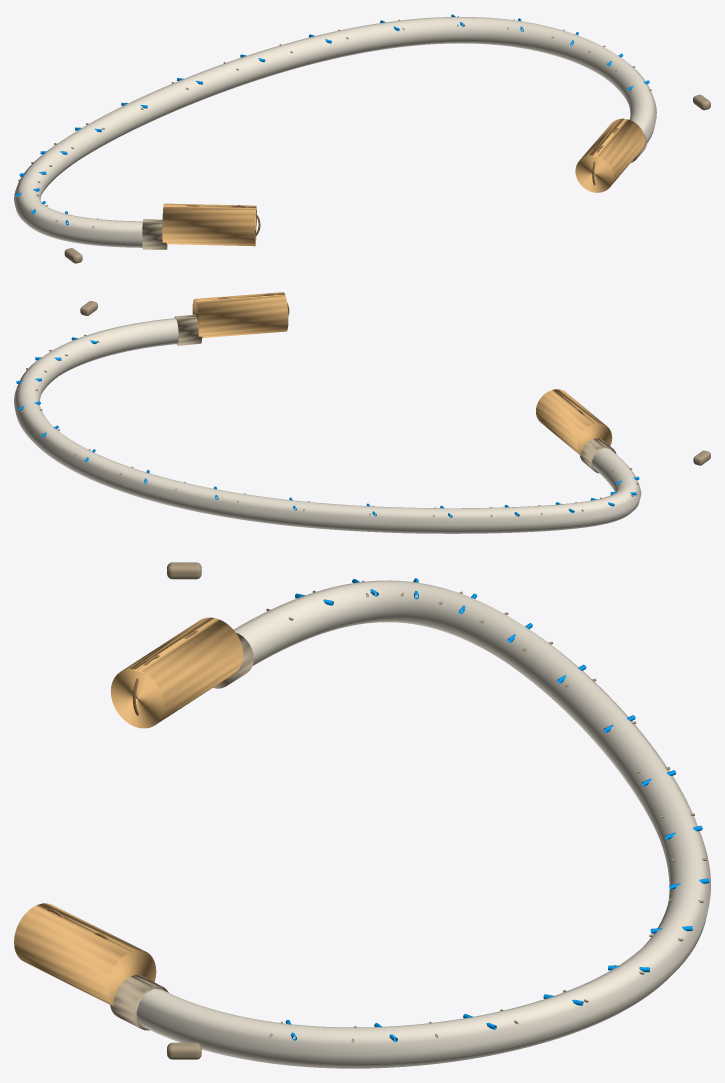
File: Langseil_3D_v2.glb
3 renders of one model, top to bottom at view 1: azimuth 30°, elevation 25°; view 2: azimuth 150°, elevation 25°; view 3: azimuth 270°, elevation 25°, orthographic. The views are drawn at different scales.
Visible parts, largest first — view 1: Langseil_3D_v2__web_off_white_braided_long_rope_body, Langseil_3D_v2__web_warm_varnished_wooden_long_rope_handles, Langseil_3D_v2__web_tan_shadow_grooves_on_long_rope_braid, Langseil_3D_v2__web_v2_extra_tan_braided_shadow_on_long_rope, Langseil_3D_v2__web_bright_blue_spiral_markings_on_long_rope; view 2: Langseil_3D_v2__web_off_white_braided_long_rope_body, Langseil_3D_v2__web_warm_varnished_wooden_long_rope_handles, Langseil_3D_v2__web_tan_shadow_grooves_on_long_rope_braid, Langseil_3D_v2__web_v2_extra_tan_braided_shadow_on_long_rope, Langseil_3D_v2__web_bright_blue_spiral_markings_on_long_rope; view 3: Langseil_3D_v2__web_off_white_braided_long_rope_body, Langseil_3D_v2__web_warm_varnished_wooden_long_rope_handles, Langseil_3D_v2__web_tan_shadow_grooves_on_long_rope_braid, Langseil_3D_v2__web_v2_extra_tan_braided_shadow_on_long_rope, Langseil_3D_v2__web_bright_blue_spiral_markings_on_long_rope.
Boxes of the visible parts, bbox=[...] form: Langseil_3D_v2__web_off_white_braided_long_rope_body: bbox=[14, 17, 656, 247]; Langseil_3D_v2__web_warm_varnished_wooden_long_rope_handles: bbox=[162, 118, 644, 246]; Langseil_3D_v2__web_tan_shadow_grooves_on_long_rope_braid: bbox=[142, 134, 646, 249]; Langseil_3D_v2__web_v2_extra_tan_braided_shadow_on_long_rope: bbox=[17, 16, 710, 263]; Langseil_3D_v2__web_bright_blue_spiral_markings_on_long_rope: bbox=[15, 14, 649, 225]; Langseil_3D_v2__web_off_white_braided_long_rope_body: bbox=[14, 318, 641, 533]; Langseil_3D_v2__web_warm_varnished_wooden_long_rope_handles: bbox=[192, 292, 612, 455]; Langseil_3D_v2__web_tan_shadow_grooves_on_long_rope_braid: bbox=[174, 314, 616, 473]; Langseil_3D_v2__web_v2_extra_tan_braided_shadow_on_long_rope: bbox=[16, 301, 710, 517]; Langseil_3D_v2__web_bright_blue_spiral_markings_on_long_rope: bbox=[16, 337, 639, 517]; Langseil_3D_v2__web_off_white_braided_long_rope_body: bbox=[136, 580, 710, 1068]; Langseil_3D_v2__web_warm_varnished_wooden_long_rope_handles: bbox=[14, 617, 243, 1005]; Langseil_3D_v2__web_tan_shadow_grooves_on_long_rope_braid: bbox=[110, 632, 253, 1030]; Langseil_3D_v2__web_v2_extra_tan_braided_shadow_on_long_rope: bbox=[167, 562, 706, 1059]; Langseil_3D_v2__web_bright_blue_spiral_markings_on_long_rope: bbox=[285, 578, 709, 1041].
Bounding box in the file's own units: 1.99 × 0.1354 × 1.2.
